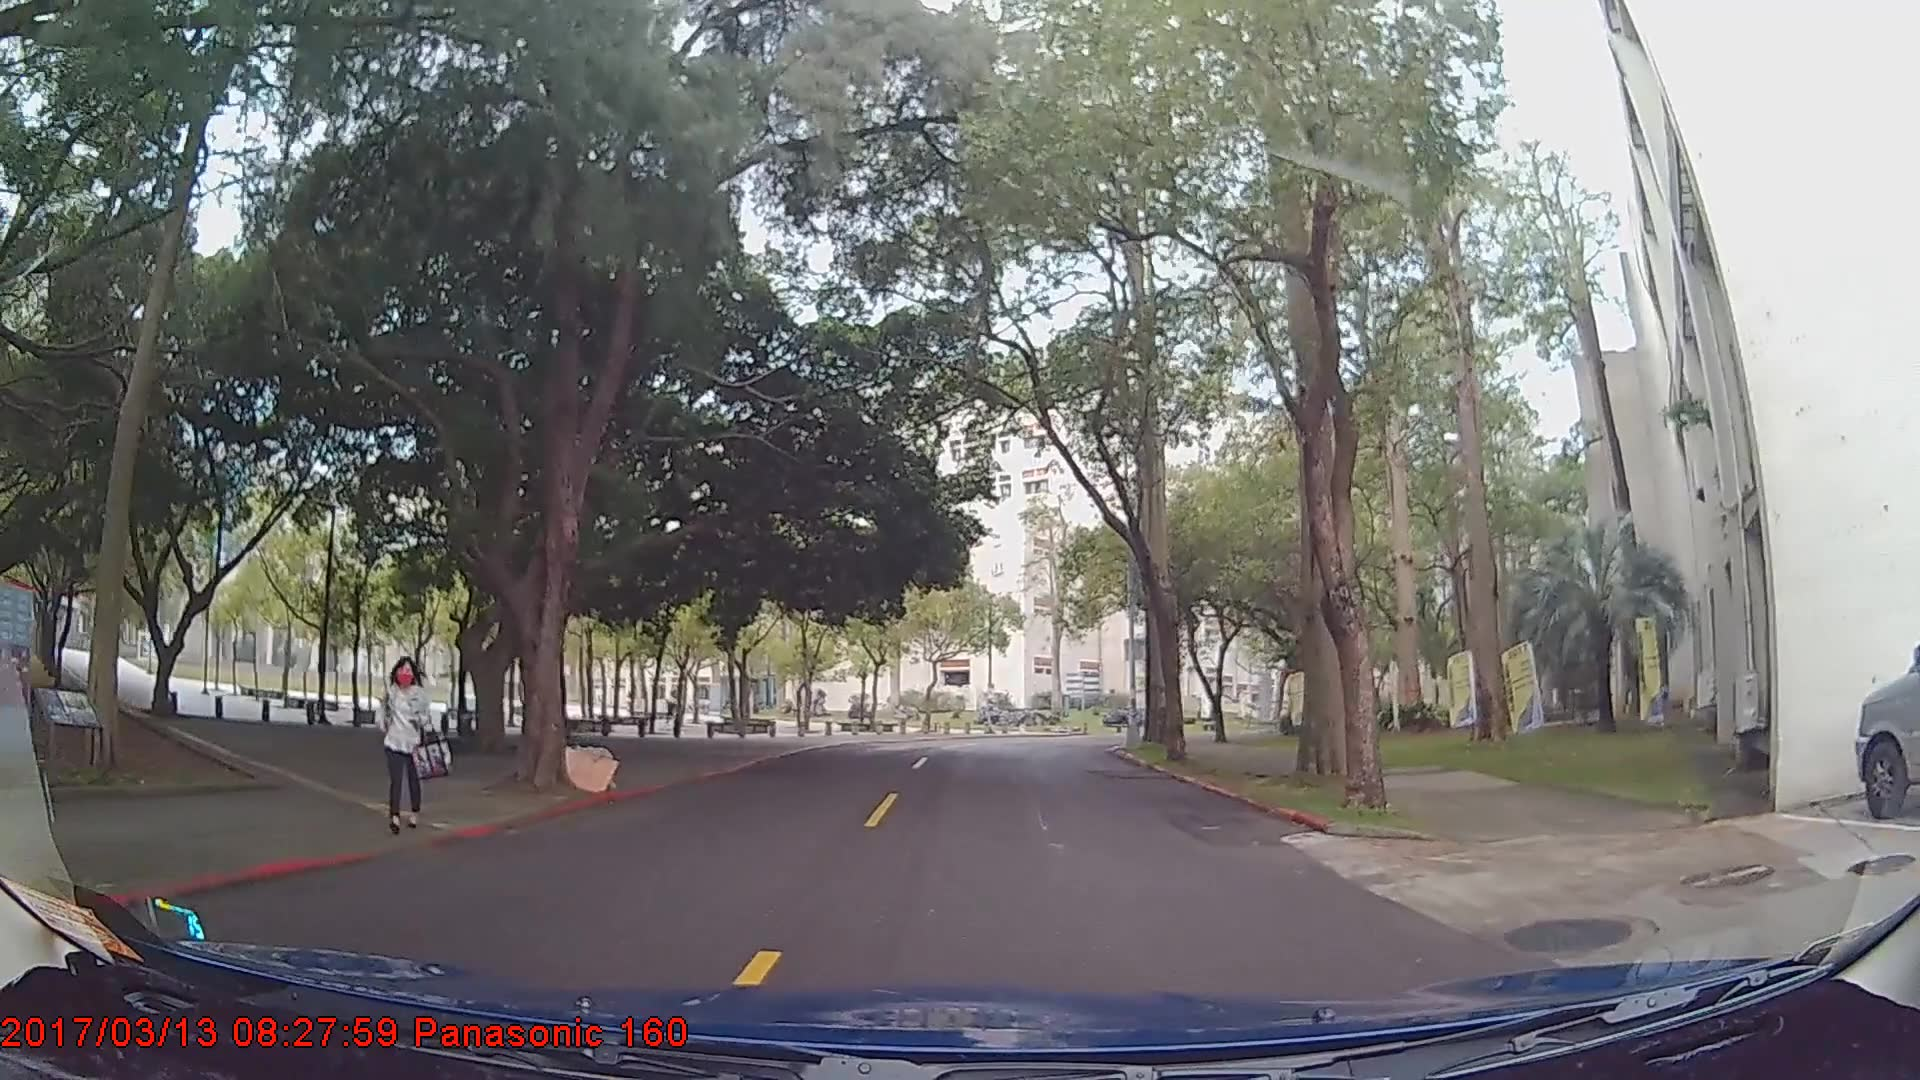pedestrian: (372, 650, 448, 834)
